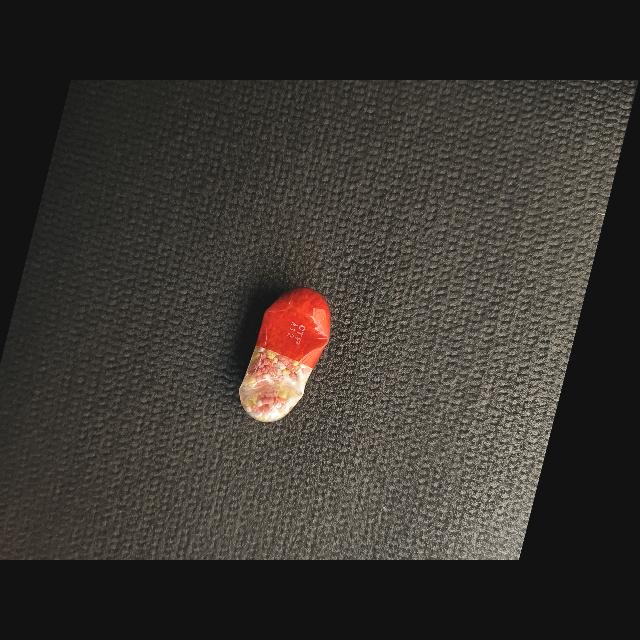Defective Capsule: (239, 287, 331, 422)
